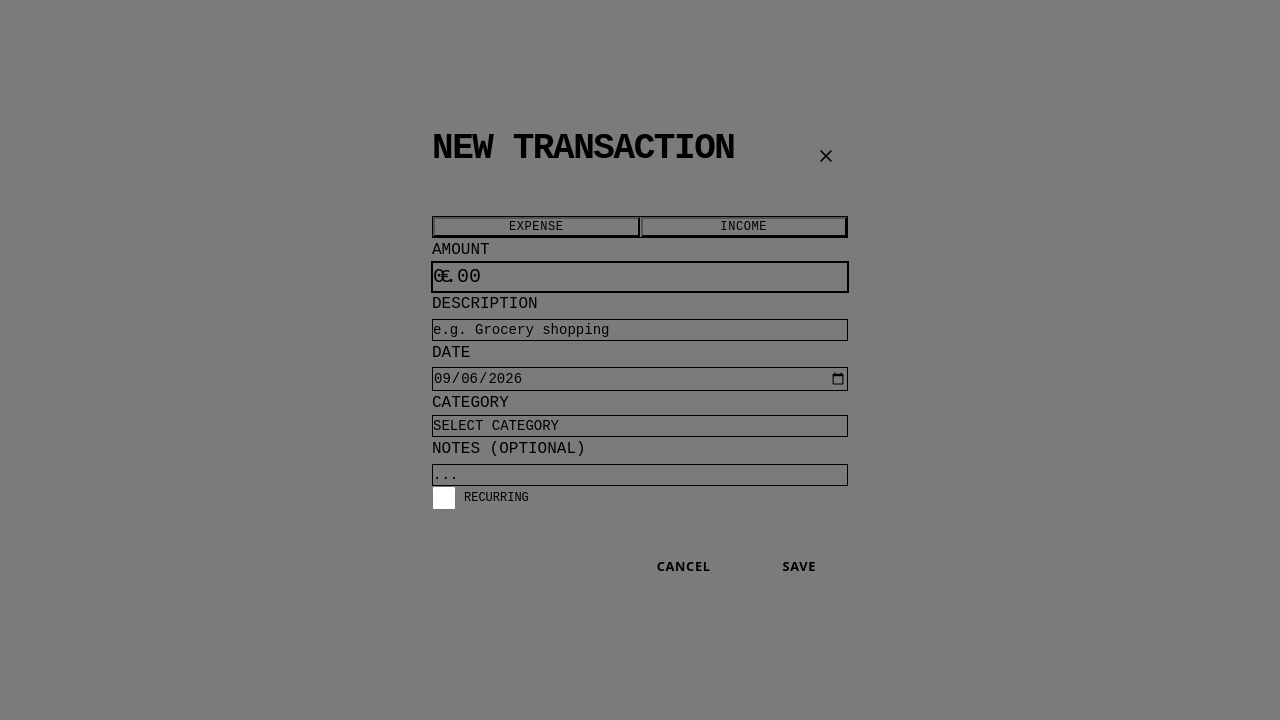
Test case: TransactionForm Component › rejects invalid amounts with an accessible error
The width and height of the screenshot is (1280, 720).
Expected: the heading "NEW TRANSACTION" is shown, [432,129,734,168]
Type "abc" into the field labelled "Amount". click: (640, 277)
box: [432,262,848,292]
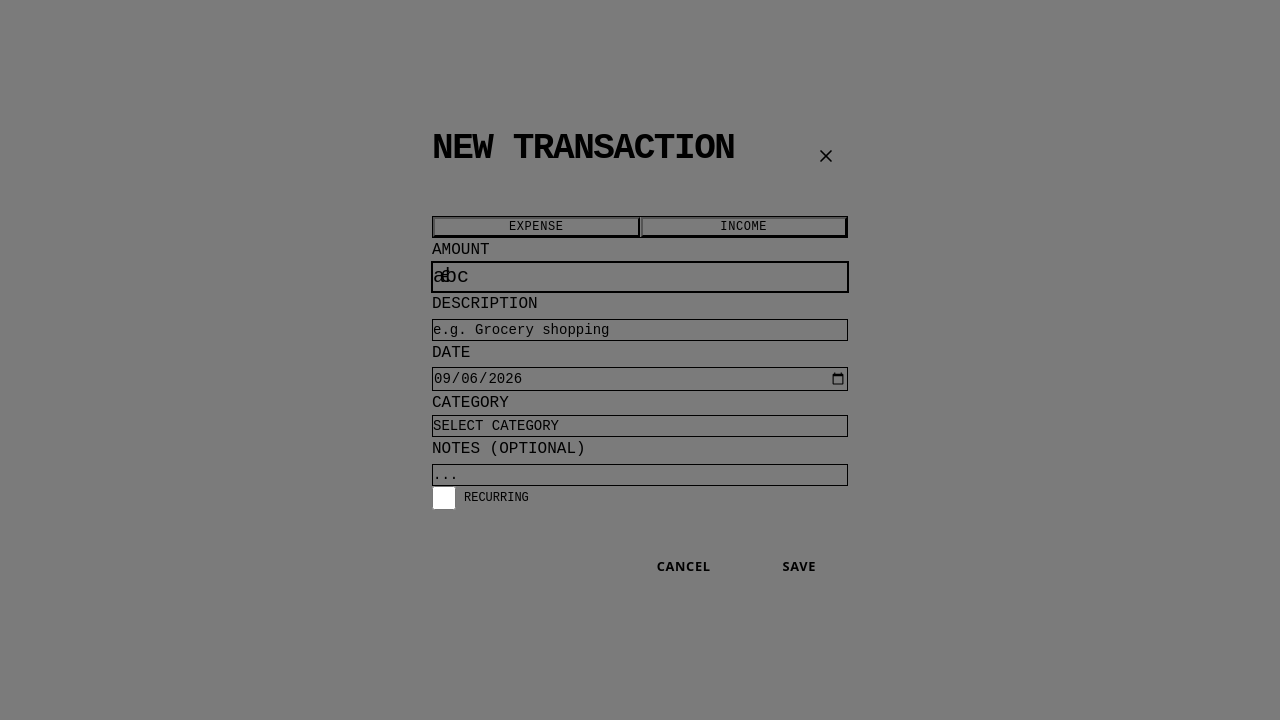
Type "Invalid row" into the field labelled "Description". click: (640, 330)
box: [432,319,848,341]
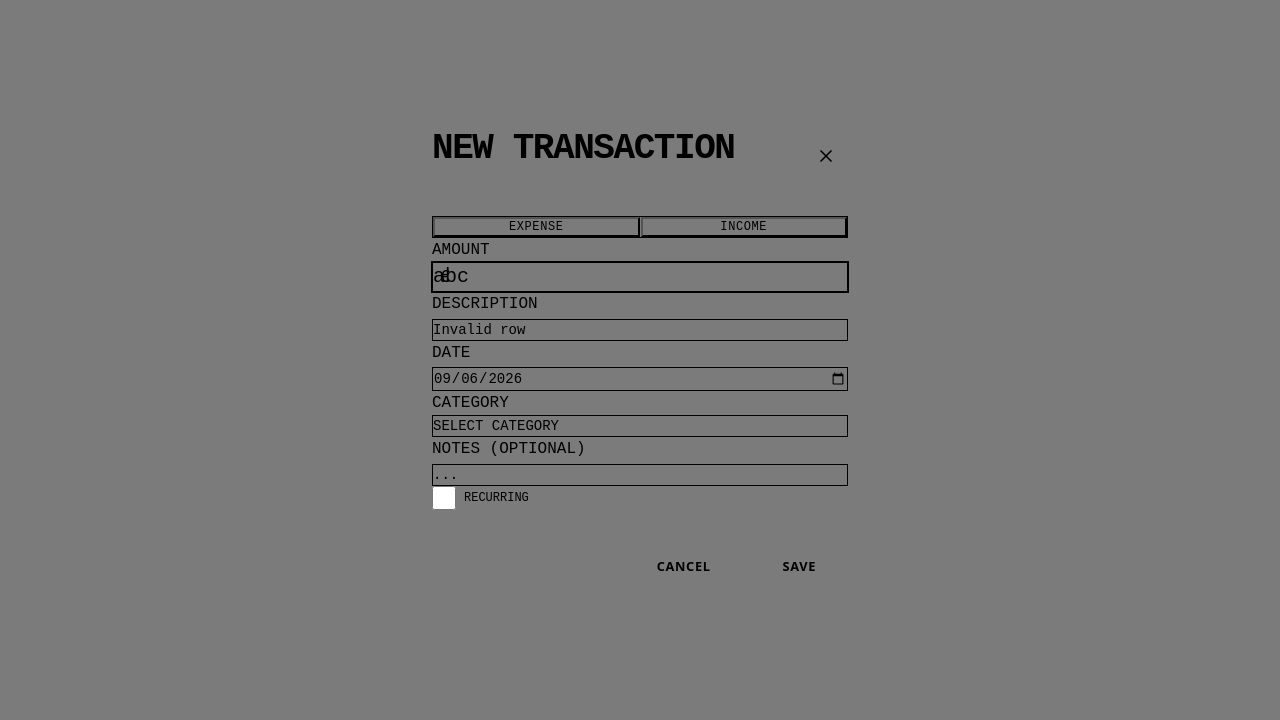
Submit the text "SAVE", box [416,200,864,607]
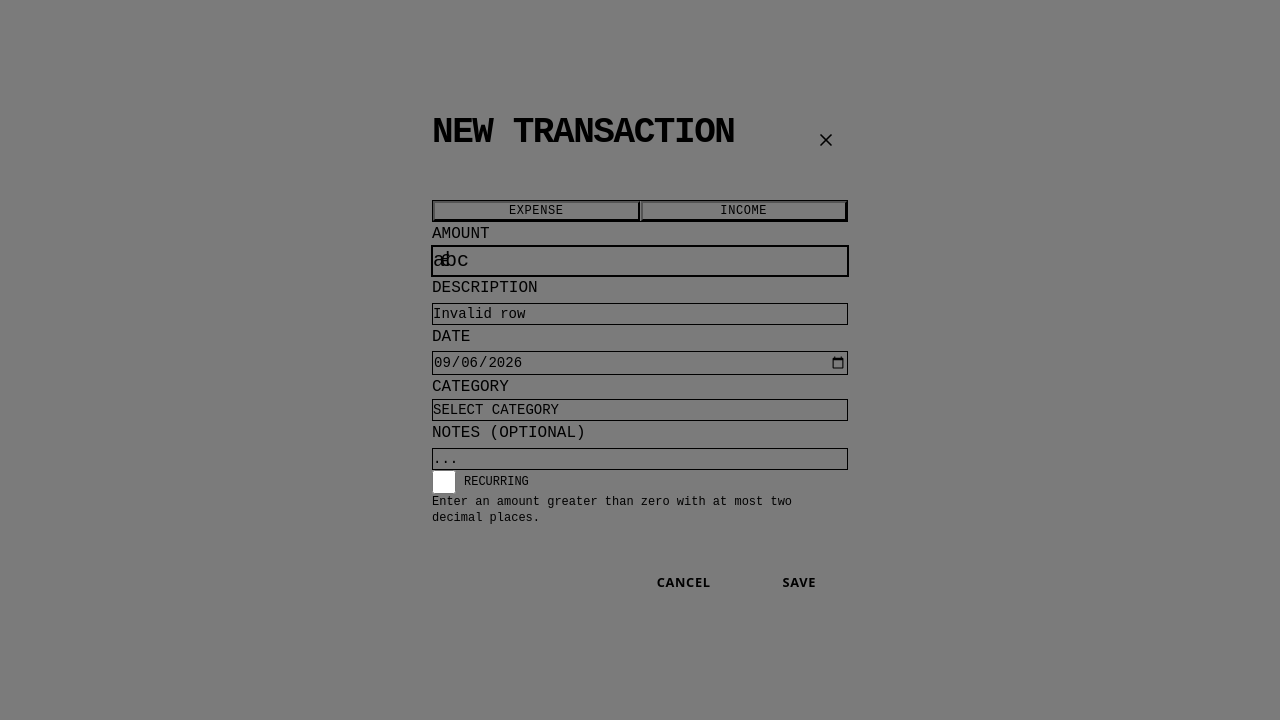
Expected: the message shows "greater than zero", [432,495,792,525]
